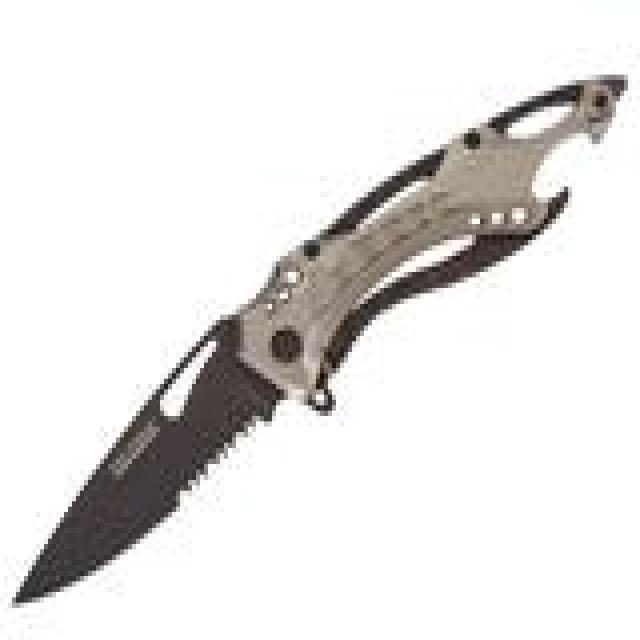Knife: (10, 58, 624, 620)
